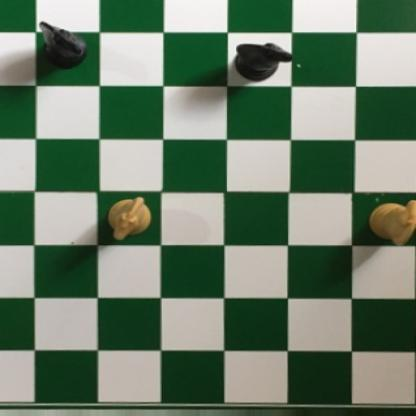black-knight: (34, 21, 89, 70), (232, 41, 296, 83)
white-knight: (364, 198, 416, 249), (103, 195, 153, 241)
